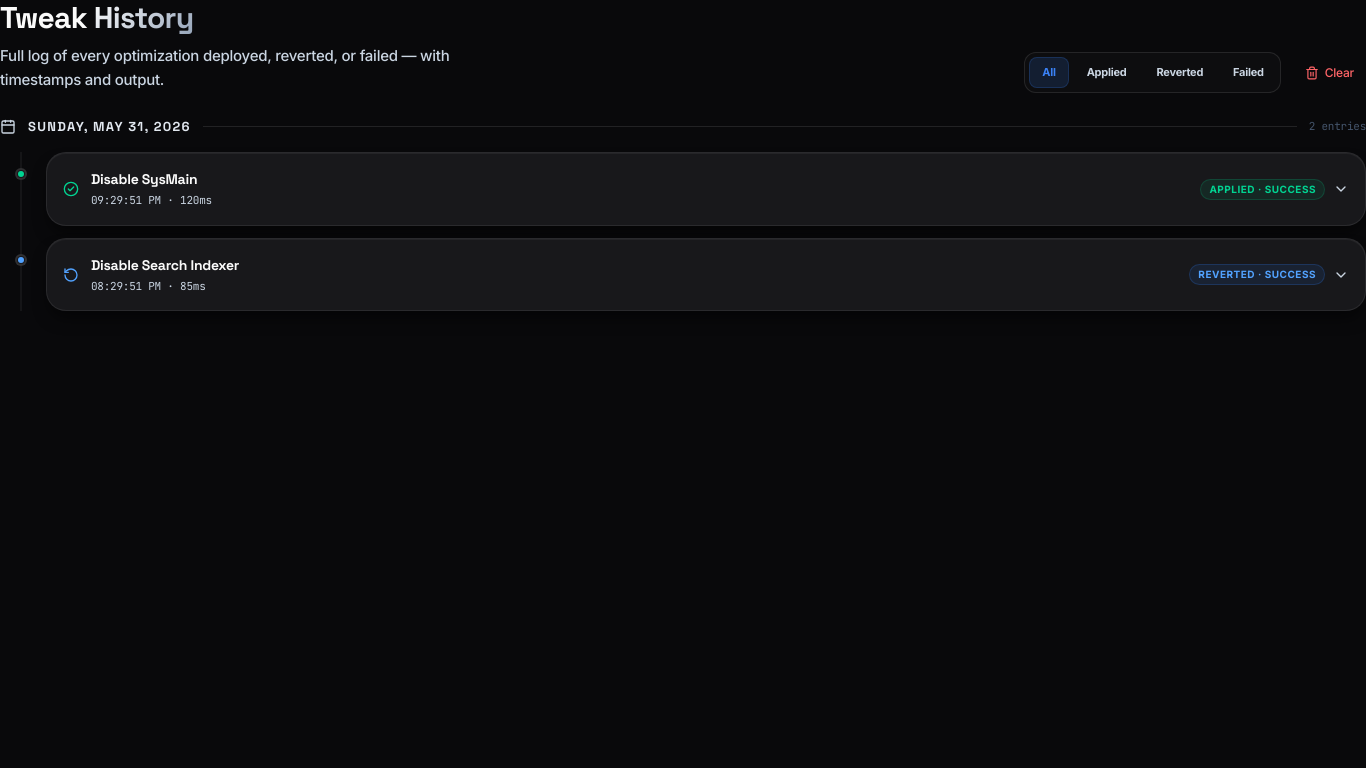
Test: HistoryPage › does not clear history without confirmation
Click the button "Clear": (1329, 72) [1293, 56, 1365, 90]
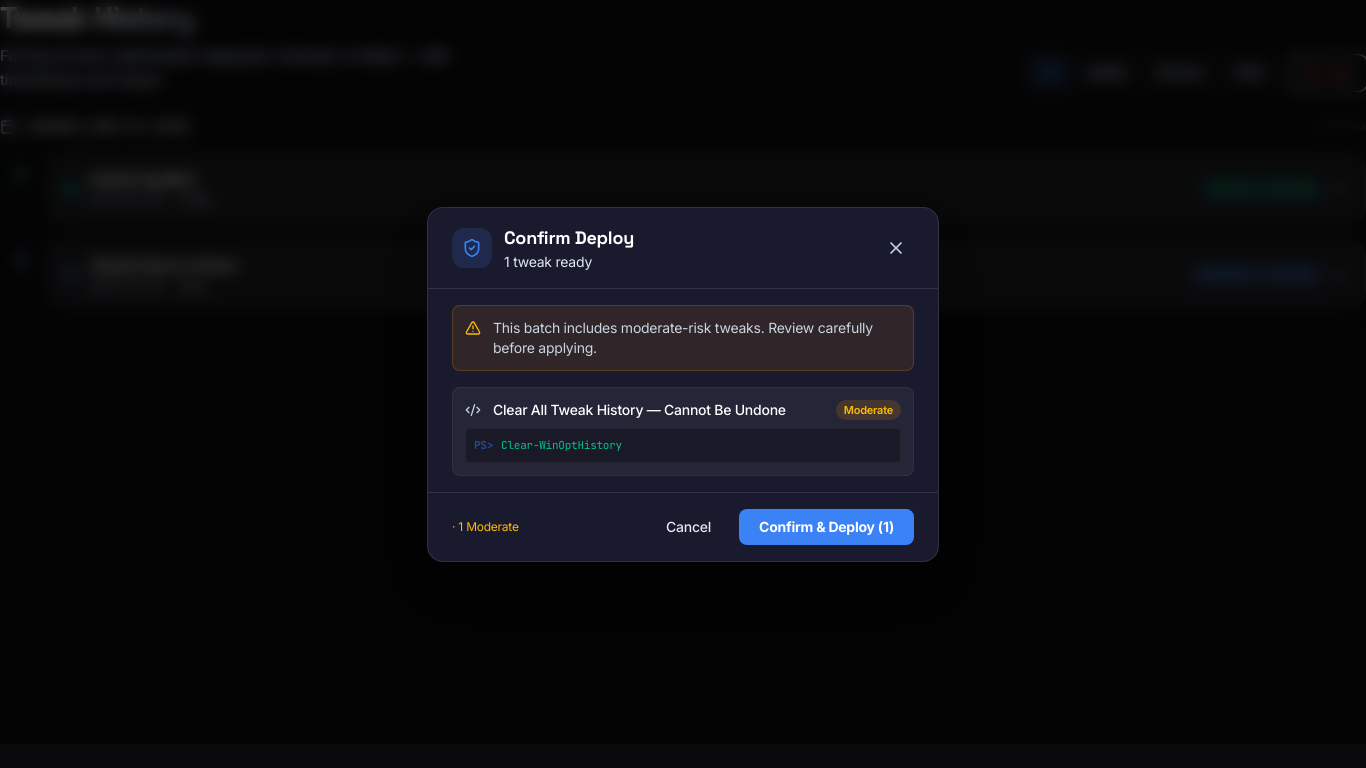
Now the text "Clear All Tweak History — Cannot Be Undone" is shown, box [493, 400, 786, 420]
